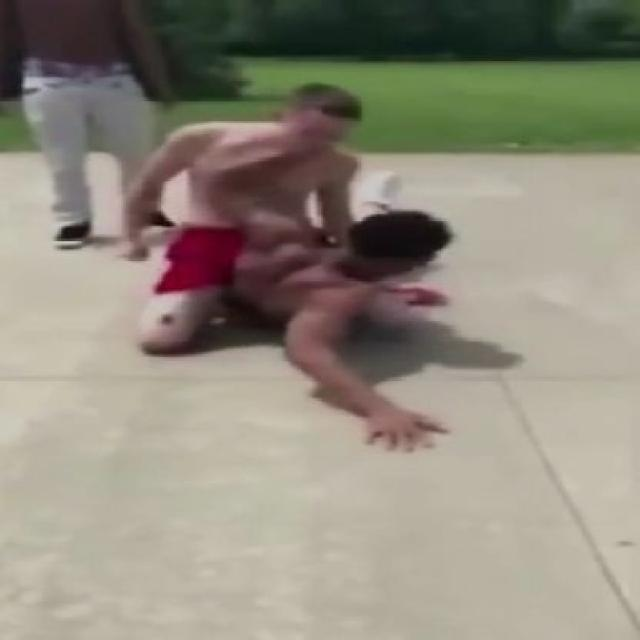fight: (76, 11, 550, 475)
non-fight: (0, 0, 206, 269)
